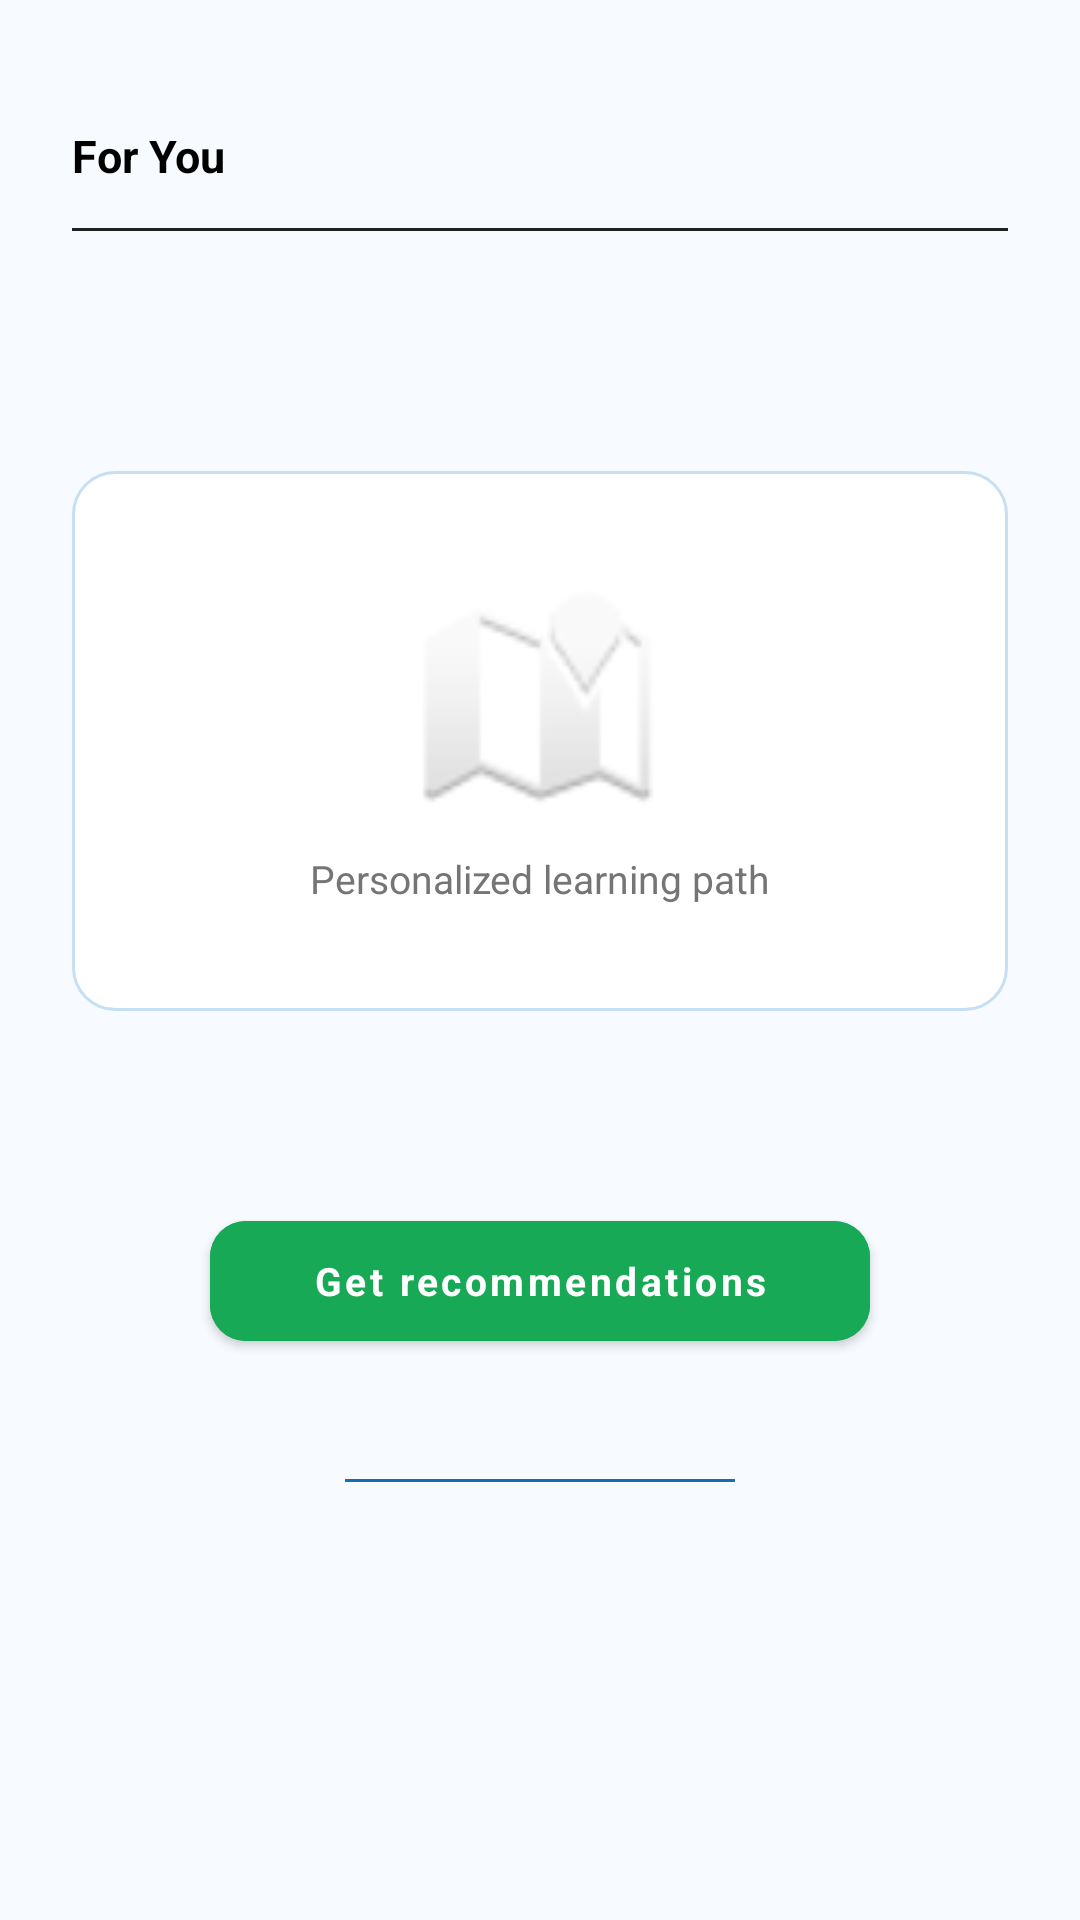

Locate icon controls on the screen. Image size 1080w x 1920h, boxes as (x1, y1, x2, y2).
Recommendation illustration: (424, 618, 650, 800)
